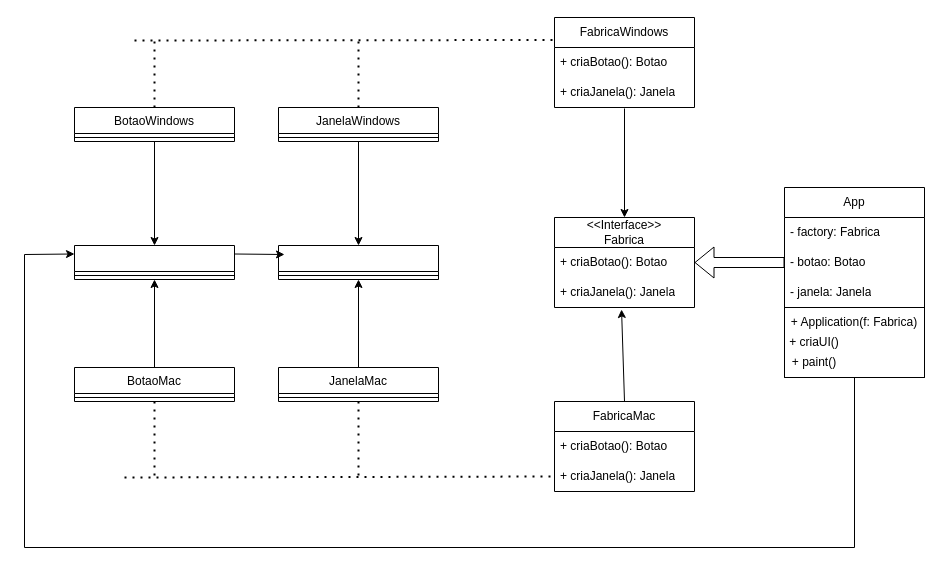
This 942x573 diagram has some shape labels left out. The centre of each missing label's shape, as x and y in pixels:
Botao: (154,262)
Janela: (358,262)
